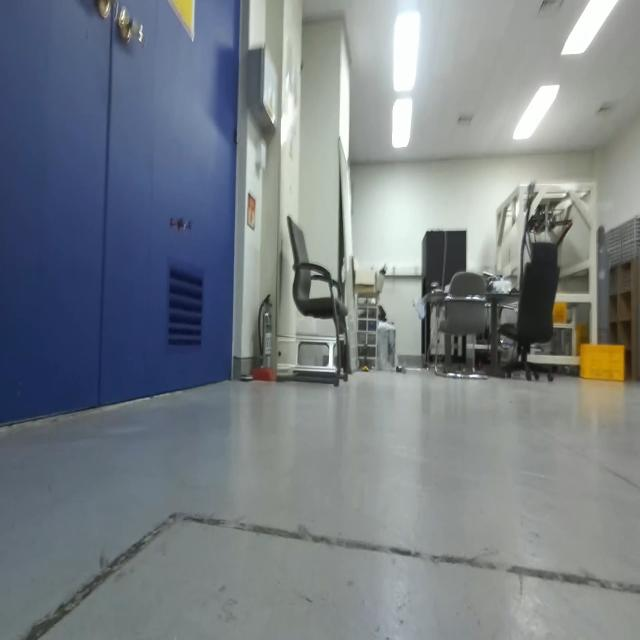crazyflie: (165, 206, 195, 243)
